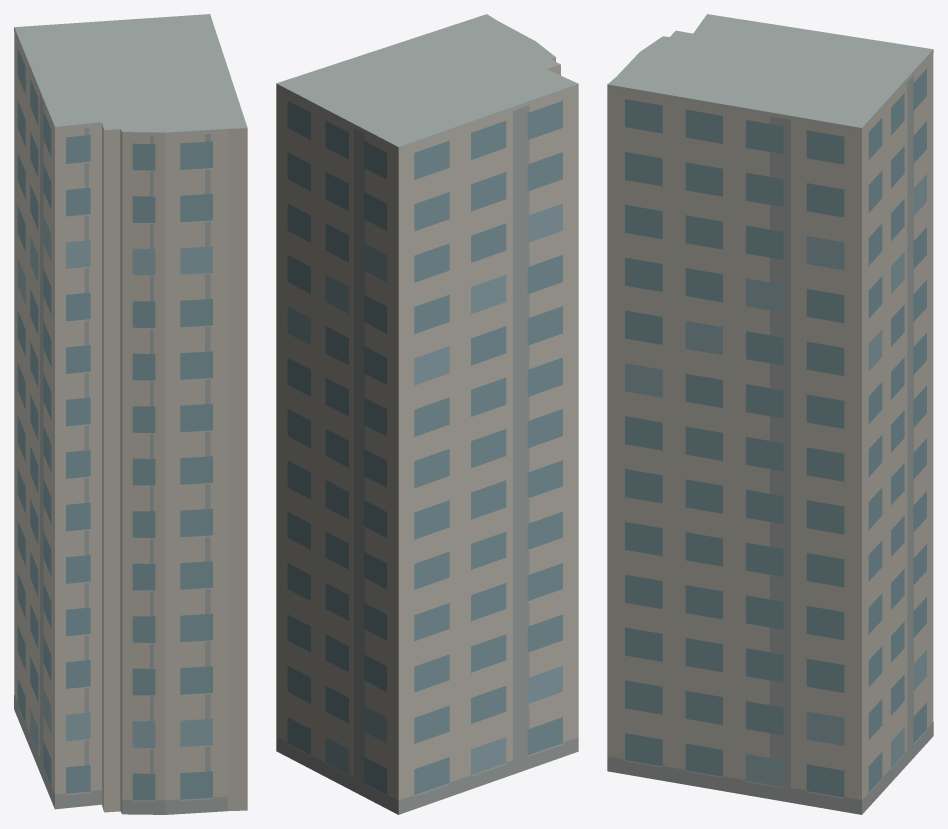
The model's file is survey-upis-32960285.glb.
3 renders of one model, left to right at view 1: azimuth 30°, elevation 25°; view 2: azimuth 150°, elevation 25°; view 3: azimuth 270°, elevation 25°, orthographic. The views are drawn at different scales.
Visible parts, largest first — view 1: survey-upis-32960285.tmp; view 2: survey-upis-32960285.tmp; view 3: survey-upis-32960285.tmp.
Boxes of the visible parts, box(x1,y1,x2,y2) form: survey-upis-32960285.tmp: box(14, 14, 247, 814); survey-upis-32960285.tmp: box(276, 14, 578, 814); survey-upis-32960285.tmp: box(607, 14, 933, 814).
Size of the model in its own units: 14.12 by 39.65 by 17.06.
